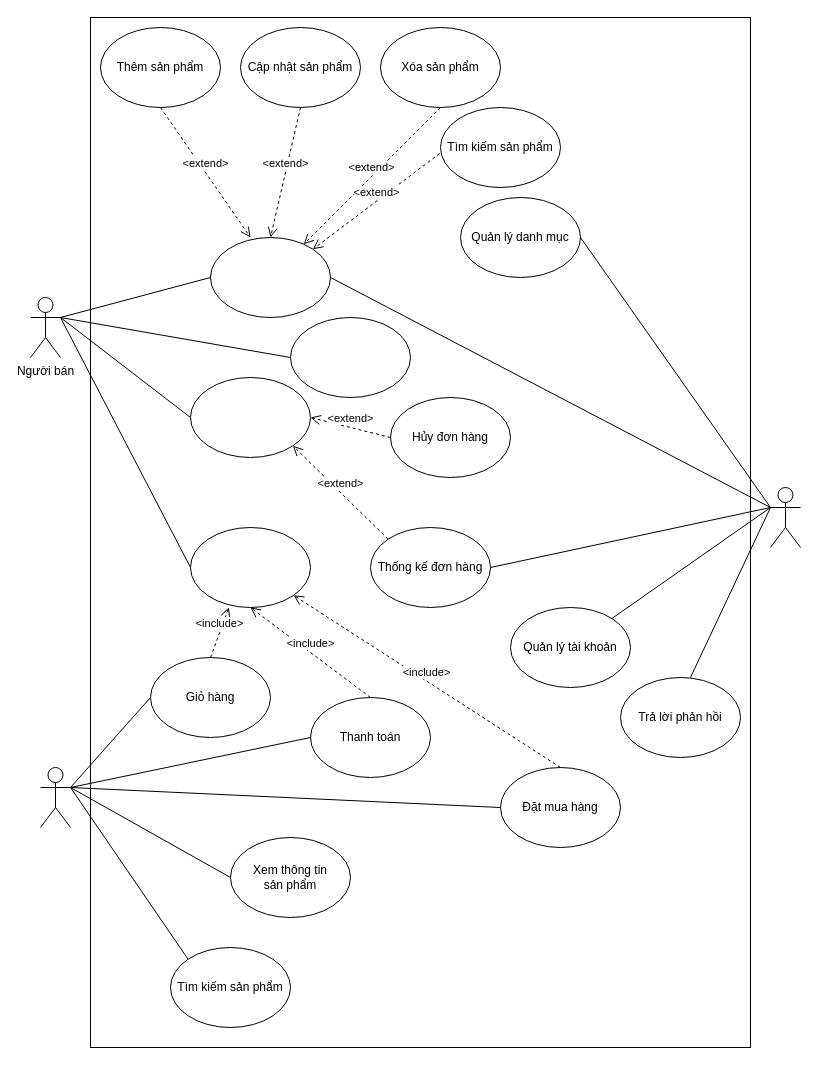
The diagram is 820 pixels wide and 1065 high, and some of its shapes have lost their labels. The shapes that lost their labels are listed below. From the top down, each one's centre as x and y in pixels, then its label:
(270,277): Quản lý sản phẩm
(350,357): Đăng ký
(250,417): Quản lý đơn hàng
(785,517): Admin
(250,567): Đăng nhập
(55,797): Người mua
